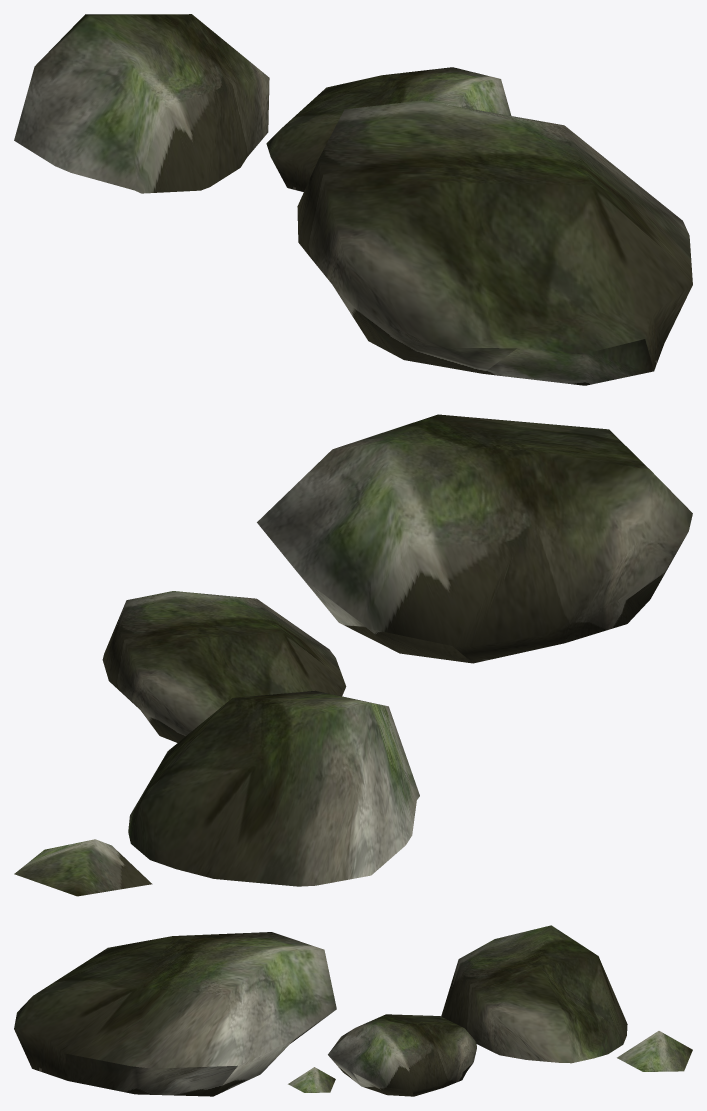
The model's file is zz_dont_use_rocks_LT_group_1G.fbx.
The picture shows the model from 3 angles, top to bottom: view 1: azimuth 30°, elevation 25°; view 2: azimuth 150°, elevation 25°; view 3: azimuth 270°, elevation 25°; orthographic projection. The views are drawn at different scales.
Visible parts, largest first — view 1: rock_3_High, rock_1_High, rock_2_High; view 2: rock_3_High, rock_1_High, rock_2_High, rock_4_High; view 3: rock_3_High, rock_1_High, rock_2_High, rock_4_High, rock_5_High1.
Boxes of the visible parts, x1,y1,x2,y2 form: rock_3_High: [297, 100, 692, 385]; rock_1_High: [14, 14, 269, 193]; rock_2_High: [266, 67, 511, 191]; rock_3_High: [257, 414, 692, 663]; rock_1_High: [128, 690, 419, 886]; rock_2_High: [102, 591, 346, 742]; rock_4_High: [14, 839, 152, 896]; rock_3_High: [14, 932, 336, 1096]; rock_1_High: [441, 925, 627, 1063]; rock_2_High: [328, 1014, 476, 1096]; rock_4_High: [617, 1031, 692, 1071]; rock_5_High1: [288, 1067, 335, 1092].
Size of the model in its own units: 359 by 142 by 849.
Materials: 1 (1 with a texture image).
